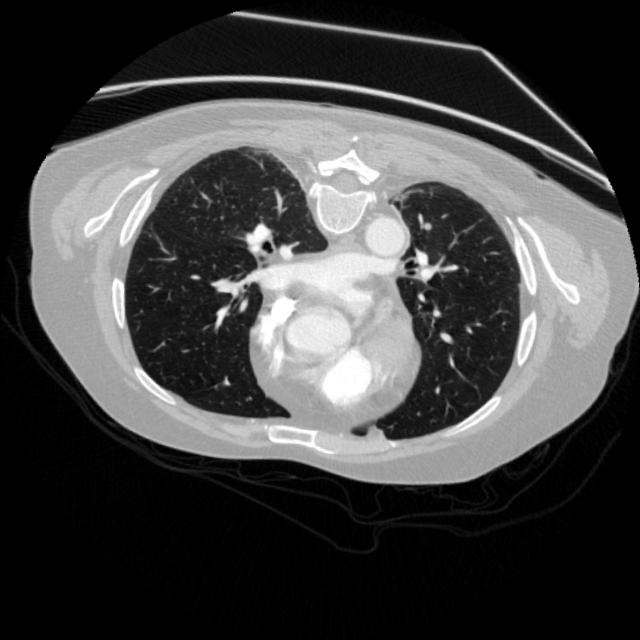nodule: (414, 215, 436, 238)
